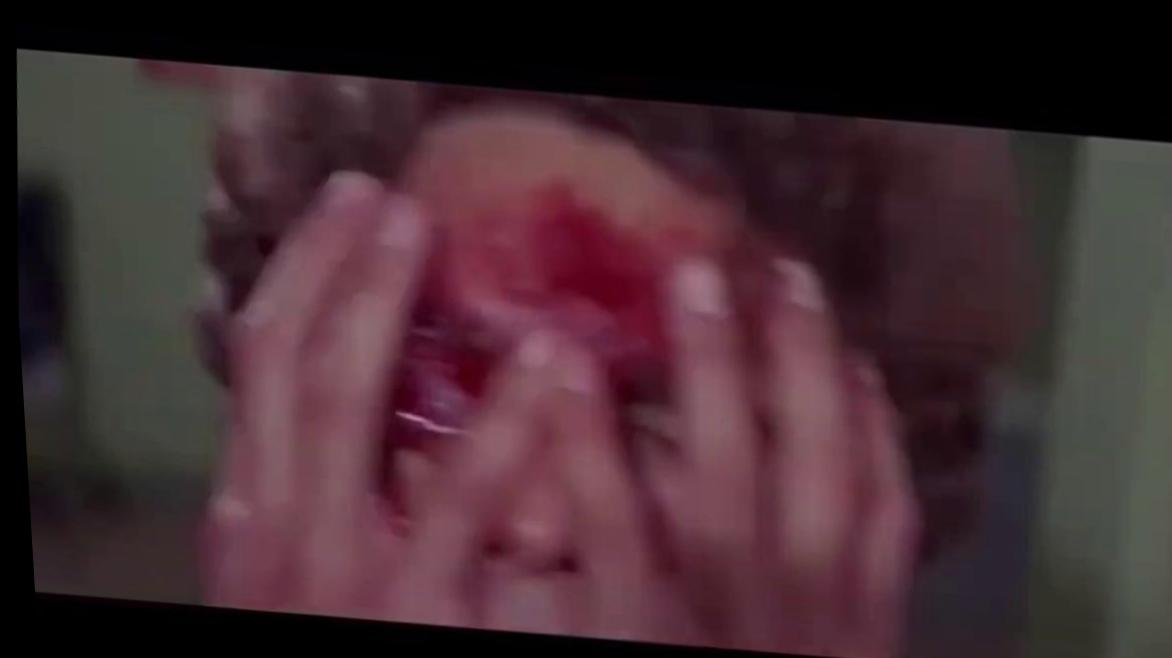Fire: (371, 160, 731, 577)
